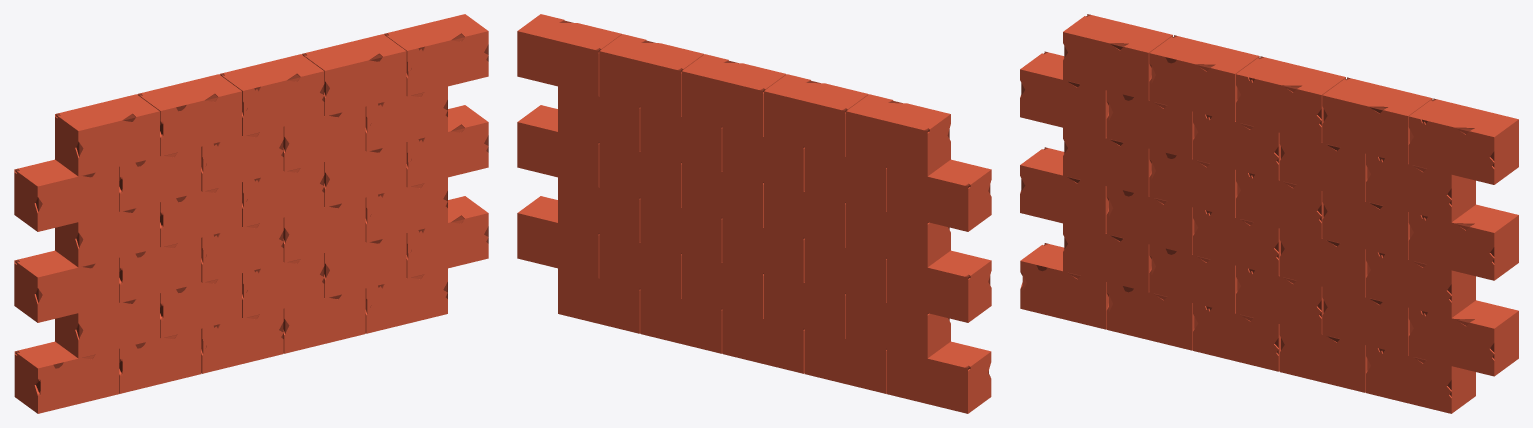
File: barrier-6.fbx
3 renders of one model, left to right at view 1: azimuth 30°, elevation 25°; view 2: azimuth 150°, elevation 25°; view 3: azimuth 330°, elevation 25°, orthographic. The views are drawn at different scales.
Parts seen in each view (by area): view 1: Cube.006, Cube.018, Cube.007, Cube.024, Cube.003, Cube.004, Cube.002, Cube.005, Cube.023, Cube.017, Cube.012, Cube.029 (+18 smaller); view 2: Cube.006, Cube.018, Cube.007, Cube.024, Cube.003, Cube.004, Cube.002, Cube.005, Cube.023, Cube.017, Cube.012, Cube.029 (+18 smaller); view 3: Cube.002, Cube.029, Cube.012, Cube.006, Cube.005, Cube.004, Cube.003, Cube.028, Cube.022, Cube.011, Cube.018, Cube.007 (+18 smaller).
Part boxes in pixels (bbox=[...]): Cube.006: bbox=[55, 94, 159, 176]; Cube.018: bbox=[14, 250, 119, 322]; Cube.007: bbox=[14, 159, 119, 231]; Cube.024: bbox=[14, 341, 119, 413]; Cube.003: bbox=[301, 34, 406, 116]; Cube.004: bbox=[219, 54, 324, 136]; Cube.002: bbox=[384, 14, 488, 96]; Cube.005: bbox=[137, 74, 241, 156]; Cube.023: bbox=[55, 293, 159, 358]; Cube.017: bbox=[55, 202, 159, 267]; Cube.012: bbox=[406, 105, 488, 187]; Cube.029: bbox=[406, 196, 488, 278]; Cube.006: bbox=[846, 94, 950, 176]; Cube.018: bbox=[886, 250, 991, 322]; Cube.007: bbox=[886, 159, 991, 231]; Cube.024: bbox=[886, 341, 991, 413]; Cube.003: bbox=[599, 34, 704, 116]; Cube.004: bbox=[681, 54, 786, 136]; Cube.002: bbox=[517, 14, 621, 96]; Cube.005: bbox=[764, 74, 868, 156]; Cube.023: bbox=[846, 293, 950, 358]; Cube.017: bbox=[846, 202, 950, 267]; Cube.012: bbox=[517, 105, 599, 187]; Cube.029: bbox=[517, 196, 599, 278]; Cube.002: bbox=[1408, 98, 1518, 184]; Cube.029: bbox=[1408, 300, 1518, 376]; Cube.012: bbox=[1408, 204, 1518, 280]; Cube.006: bbox=[1063, 14, 1172, 100]; Cube.005: bbox=[1149, 35, 1259, 121]; Cube.004: bbox=[1236, 56, 1345, 142]; Cube.003: bbox=[1322, 77, 1432, 163]; Cube.028: bbox=[1366, 345, 1475, 413]; Cube.022: bbox=[1366, 249, 1475, 318]; Cube.011: bbox=[1366, 154, 1475, 222]; Cube.018: bbox=[1020, 147, 1108, 233]; Cube.007: bbox=[1020, 51, 1108, 137].
Size of the model in its own units: 423 by 245 by 38.28.
